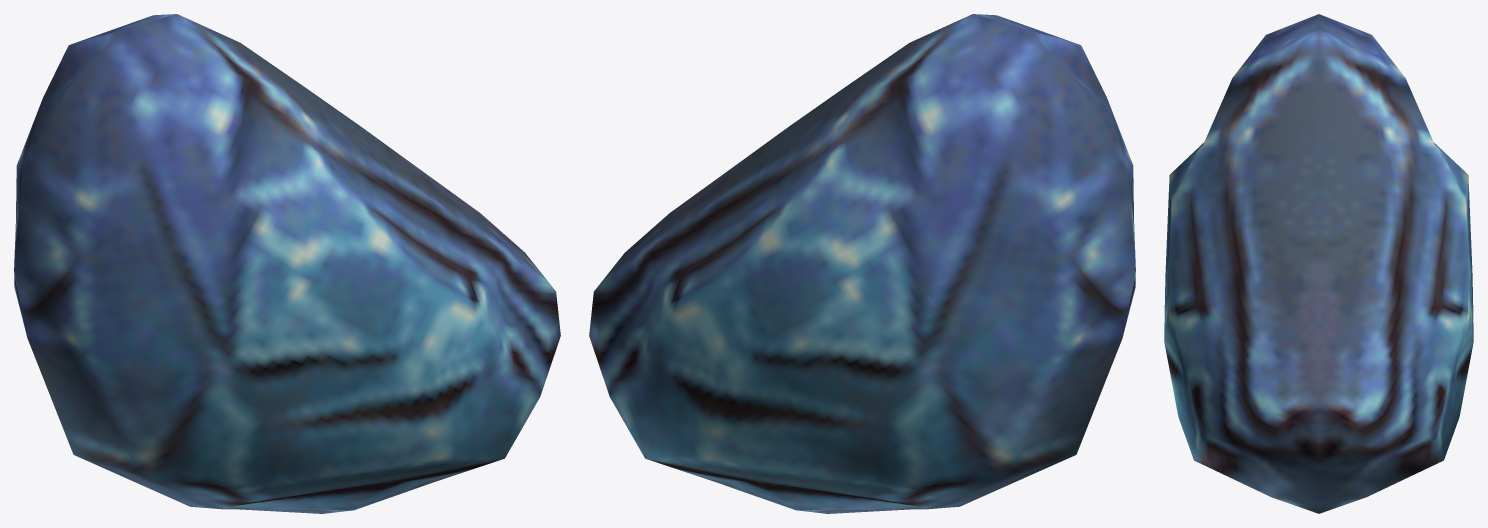
The model's file is aerolite04.FBX.
3 renders of one model, left to right at view 1: azimuth 30°, elevation 25°; view 2: azimuth 150°, elevation 25°; view 3: azimuth 270°, elevation 25°, orthographic. The views are drawn at different scales.
Visible parts, largest first — view 1: aerolite04; view 2: aerolite04; view 3: aerolite04.
Part boxes in pixels (left/top/right/bottom): aerolite04: left=14, top=14, right=560, bottom=513; aerolite04: left=589, top=14, right=1135, bottom=513; aerolite04: left=1164, top=14, right=1473, bottom=513.
Size of the model in its own units: 1210 by 1174 by 811.
